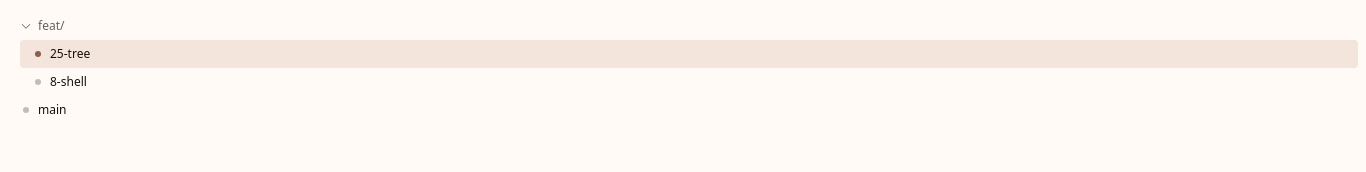
Scenario: BranchesSection tree mode — current group › collapses a folder that holds the current branch and marks it so the group stays findable
Expected: the text "25-tree" is shown, left=50, top=45, right=90, bottom=62
# Collapsing is allowed even though the group holds the current branch.
Click the button at (26, 26), box left=8, top=12, right=1358, bottom=40
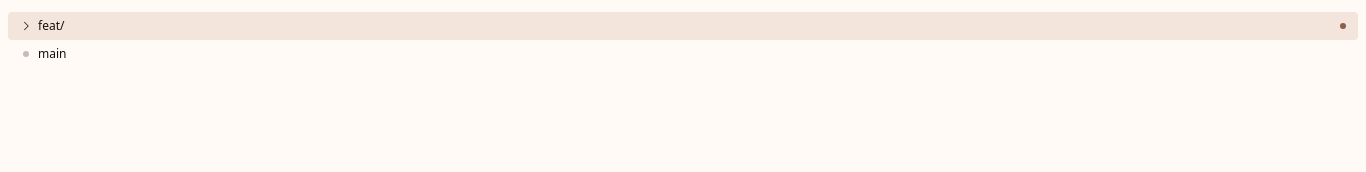
Now the button is collapsed, box left=8, top=12, right=1358, bottom=40
Now the option "25-tree" is gone
Now the option "8-shell" is gone
